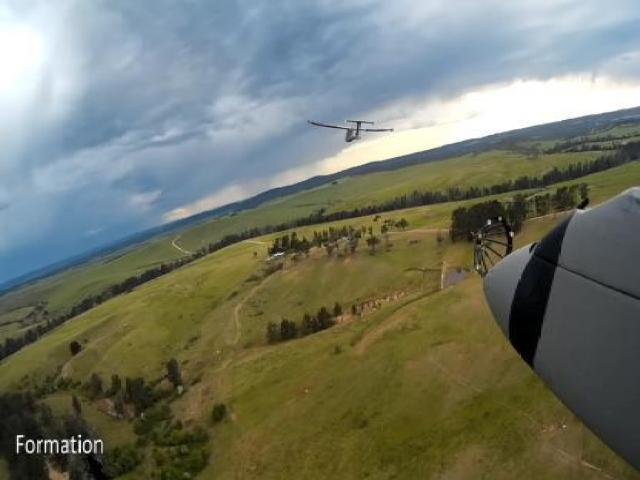uav: (304, 114, 396, 143)
